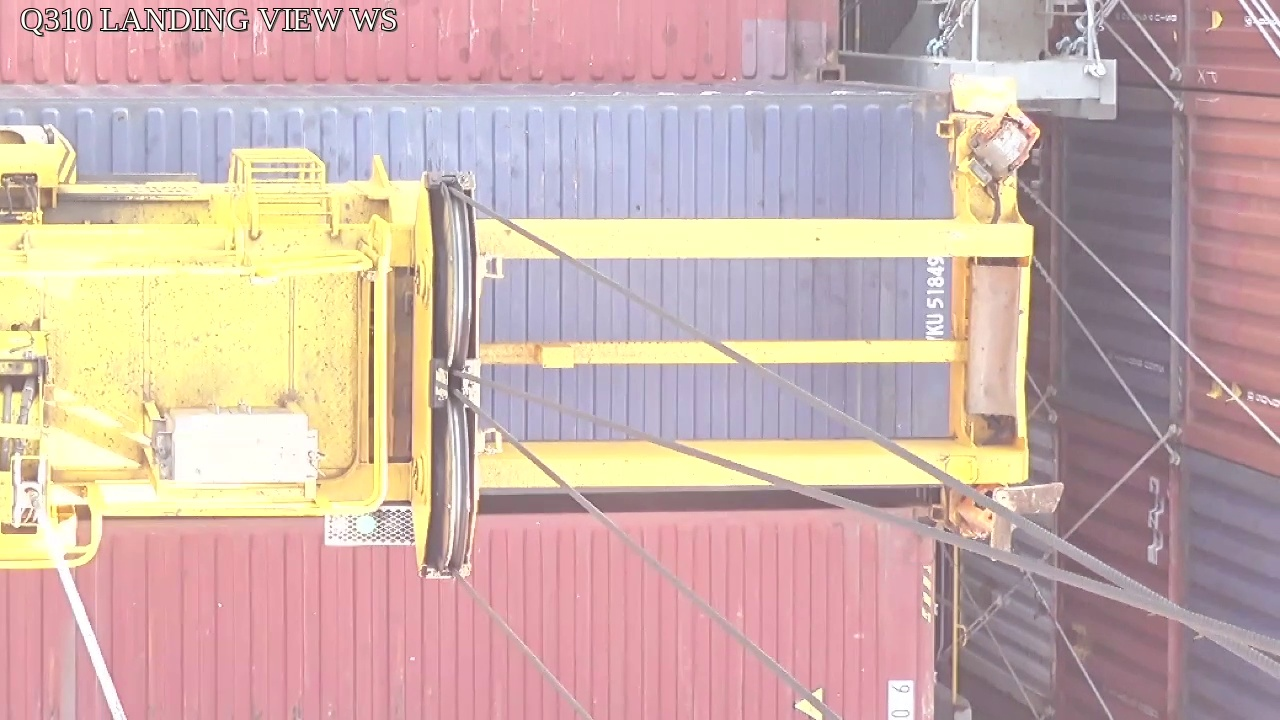right: (408, 170, 482, 581)
